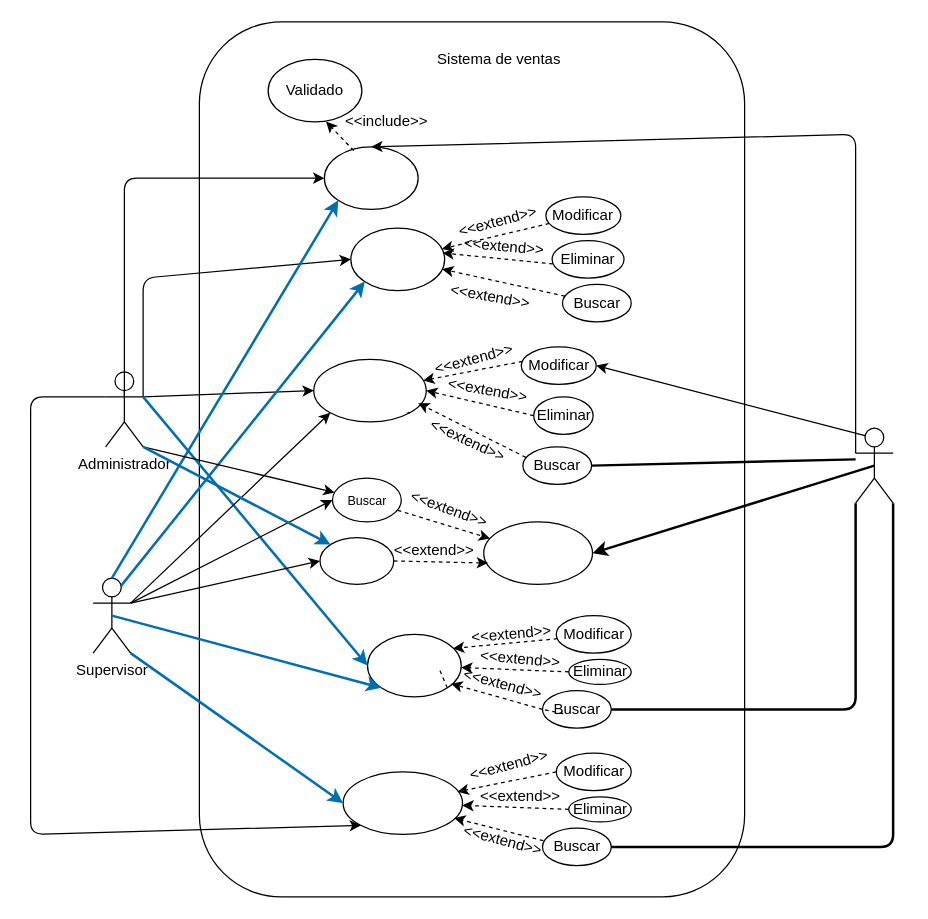
The diagram is 928 pixels wide and 919 high, and some of its shapes have lost their labels. Each missing label, with the box of its shape:
Acceder la la pagina: (323, 146, 418, 209)
Anular: (319, 536, 394, 584)
Generar Venta: (482, 521, 592, 584)
Registro de clientes: (312, 358, 426, 422)
Registro de productos: (366, 633, 461, 697)
Registro de proveedores: (342, 771, 462, 834)
Registro de usuarios: (350, 227, 445, 291)
Vendedor: (854, 427, 893, 503)
